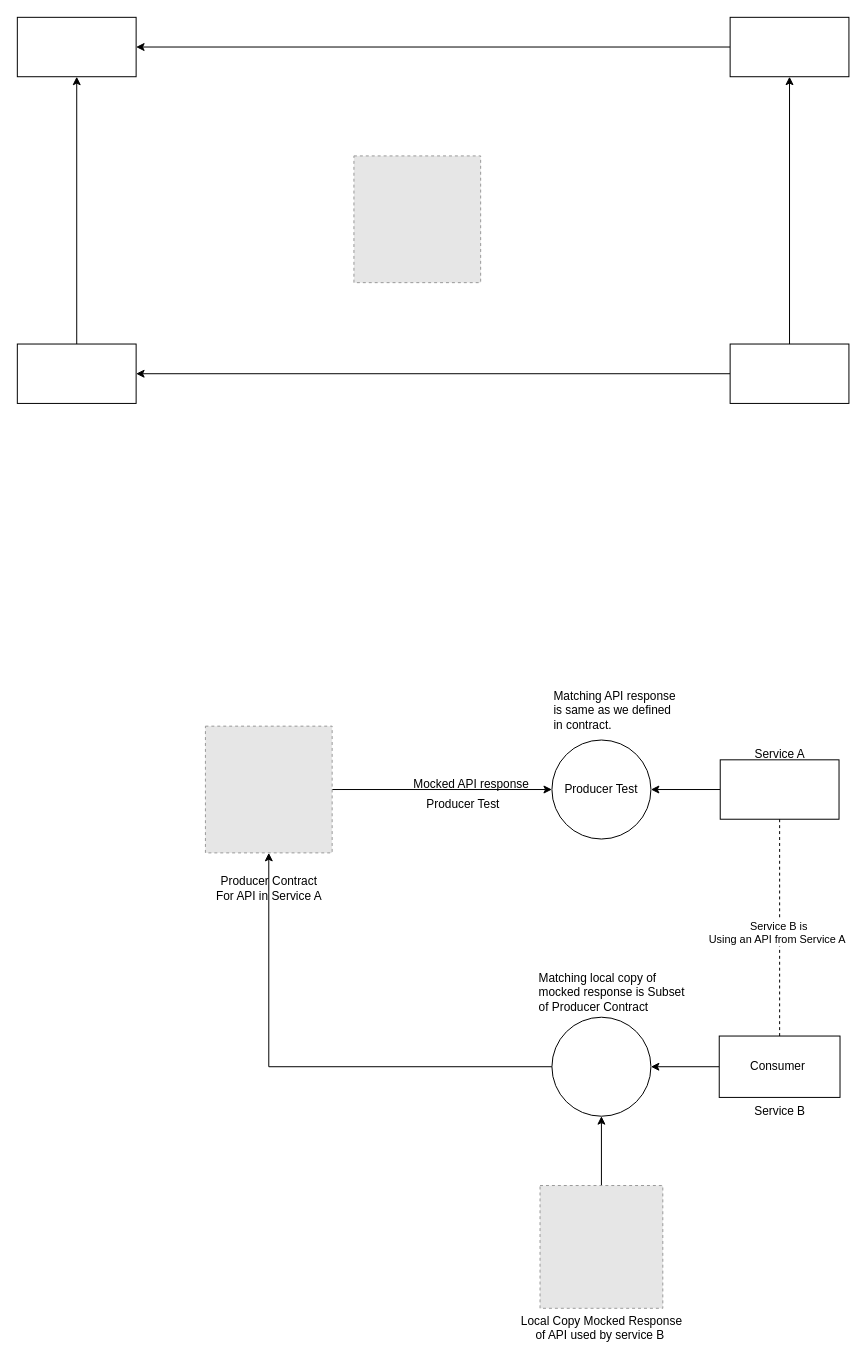
Image size: 866x1365. Some labels were removed from this diagram. Grey dashed boxes stand in for pictures. Each missing label, with the box of its shape:
Consumer Test: (551, 1016, 651, 1116)
Producer: (719, 759, 839, 819)
